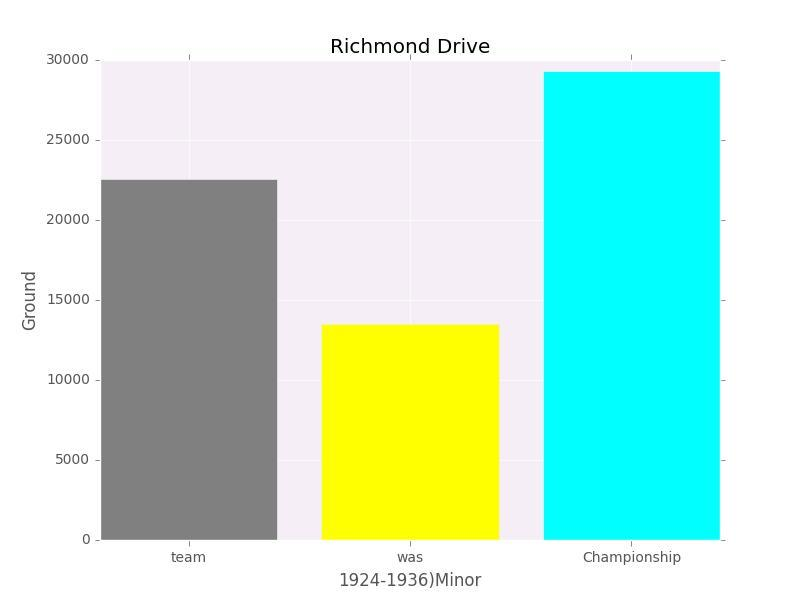axis: (22, 54, 90, 546)
rectangle: (543, 71, 720, 540), (100, 179, 277, 540), (322, 324, 498, 540)
